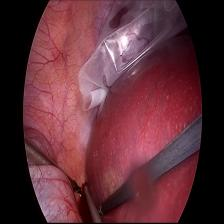Irrigator: (82, 182, 96, 205)
Specimen Bag: (75, 1, 189, 111)
